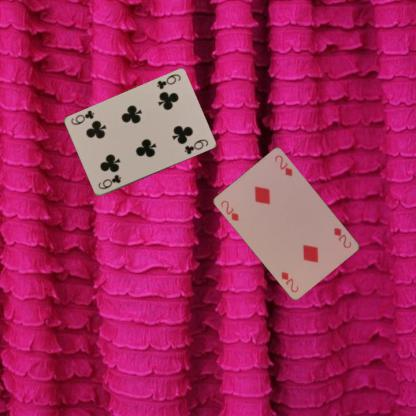2d: (218, 198, 240, 222), (332, 224, 353, 249)
6c: (154, 72, 182, 90), (96, 172, 122, 191)
